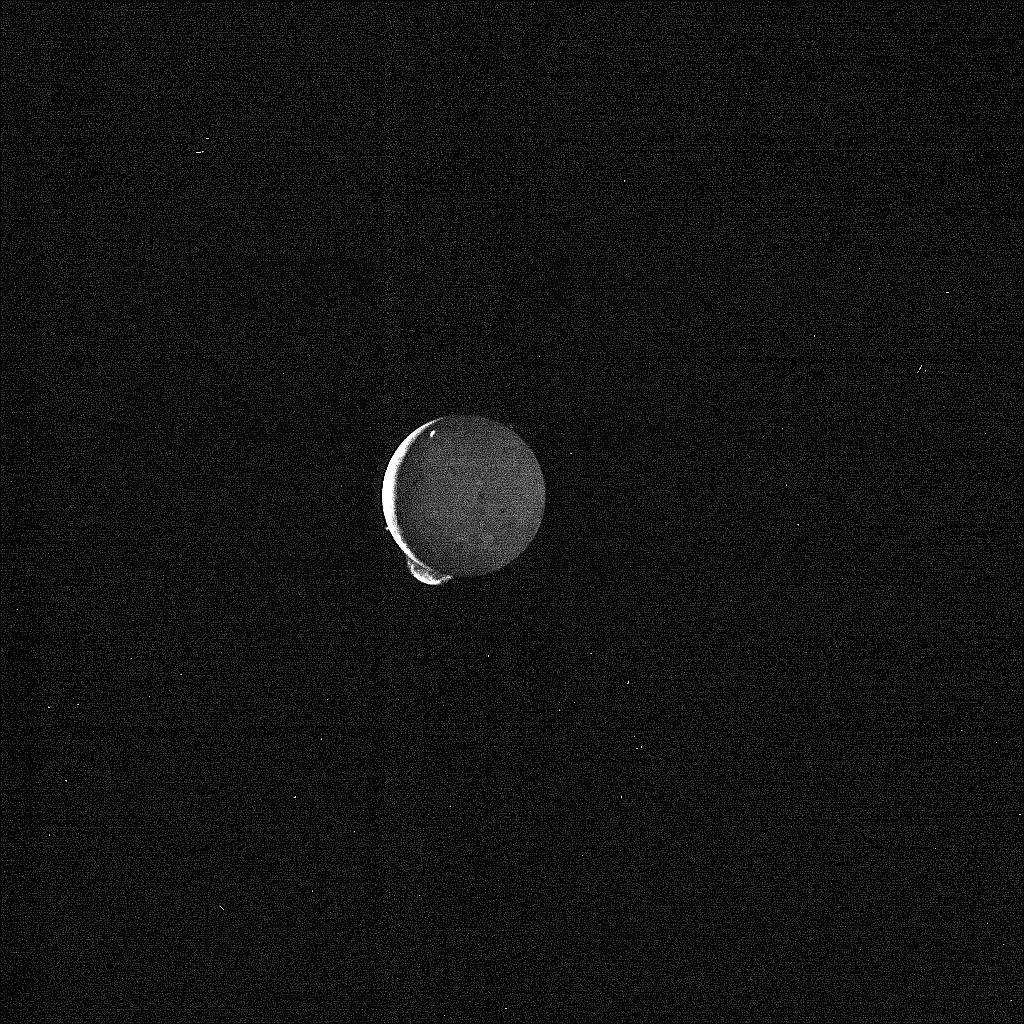plumes: (406, 554, 454, 583), (384, 526, 390, 530)
